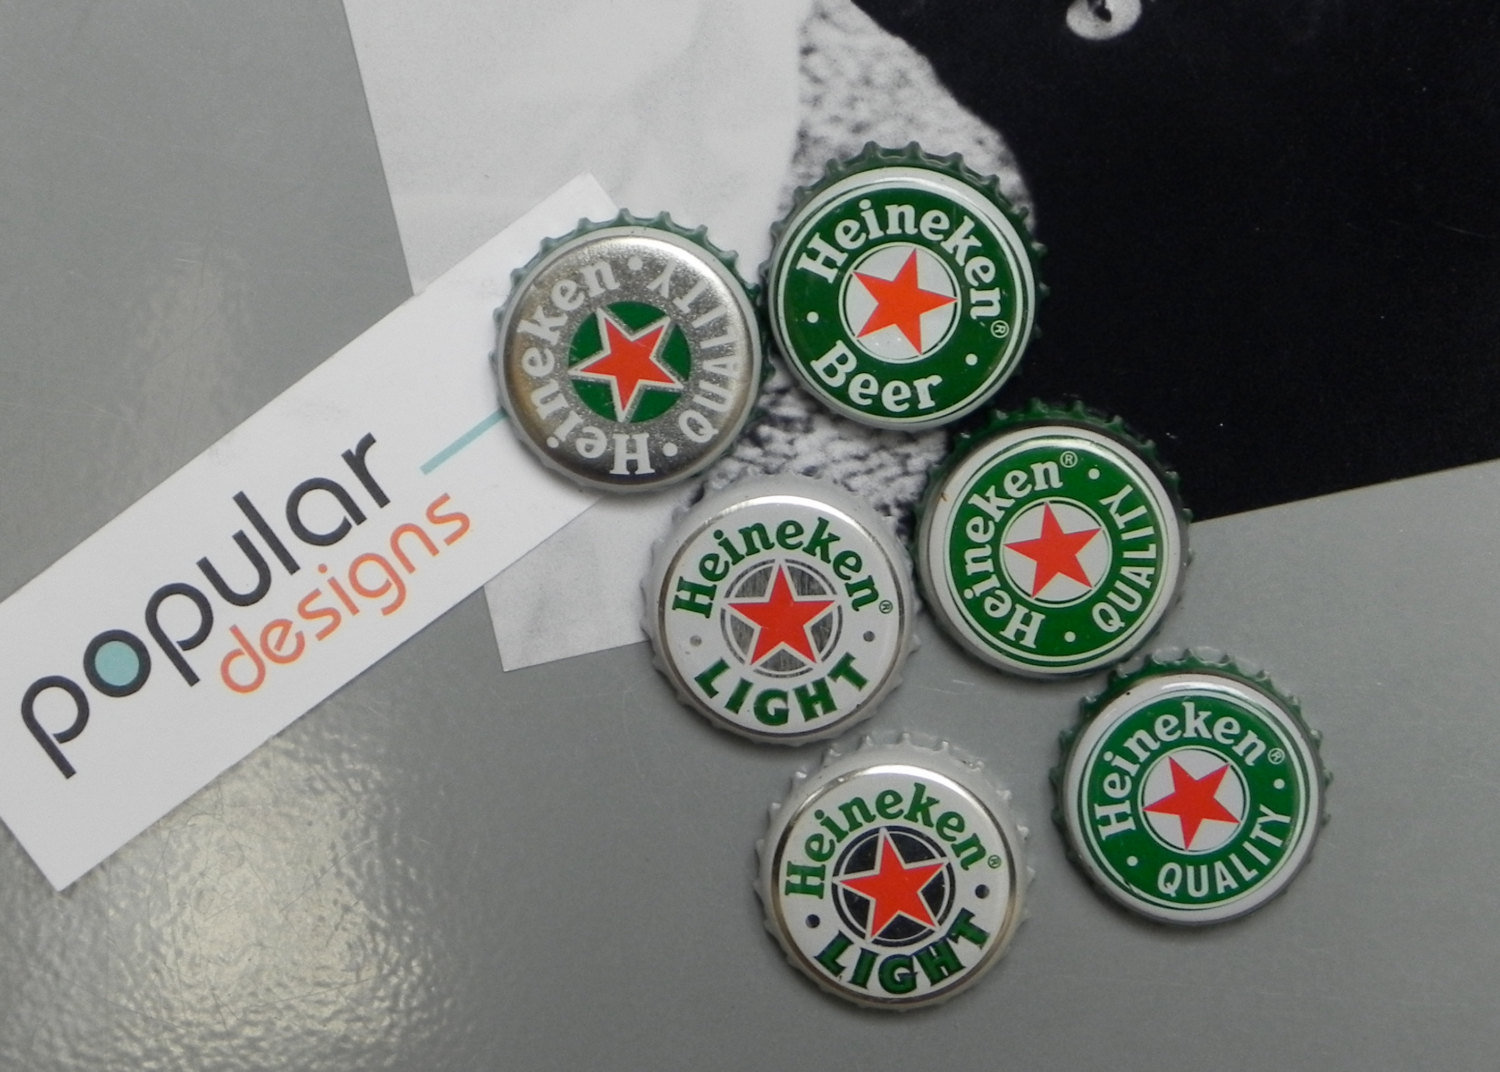heineken: (760, 142, 1044, 442), (479, 207, 769, 500), (1046, 649, 1336, 935), (915, 406, 1191, 691)
